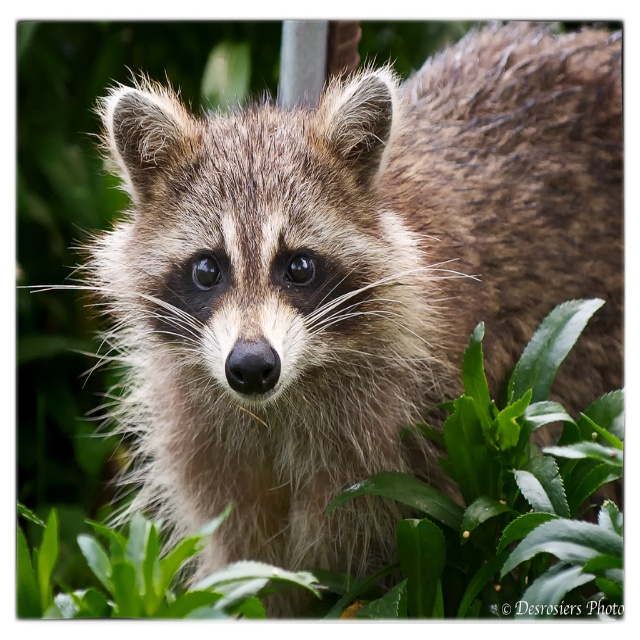Raccoon: (17, 21, 623, 619)
